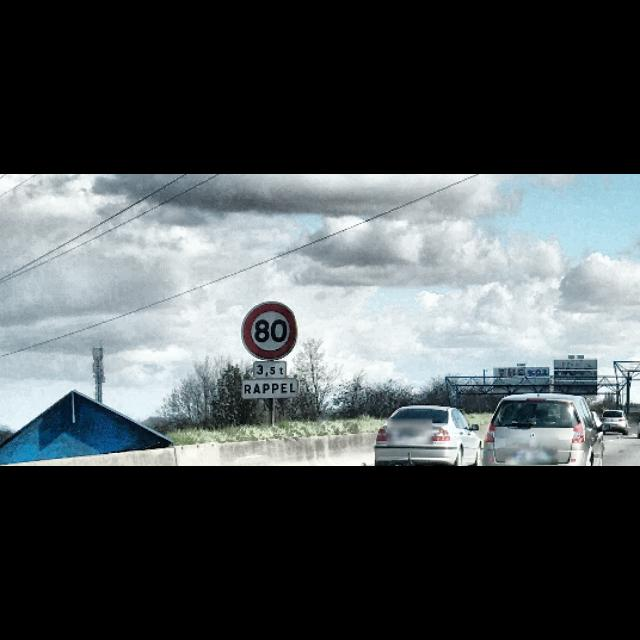speed_80: (242, 300, 298, 362)
